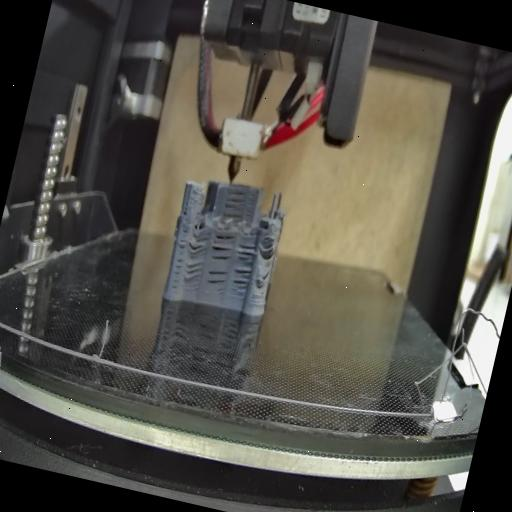cracks: (170, 228, 192, 292), (220, 184, 252, 222), (209, 232, 236, 266), (204, 266, 230, 296), (228, 265, 252, 297), (181, 258, 205, 284), (188, 230, 210, 256), (236, 238, 258, 264), (262, 241, 276, 261), (260, 264, 272, 282), (180, 202, 192, 218)
